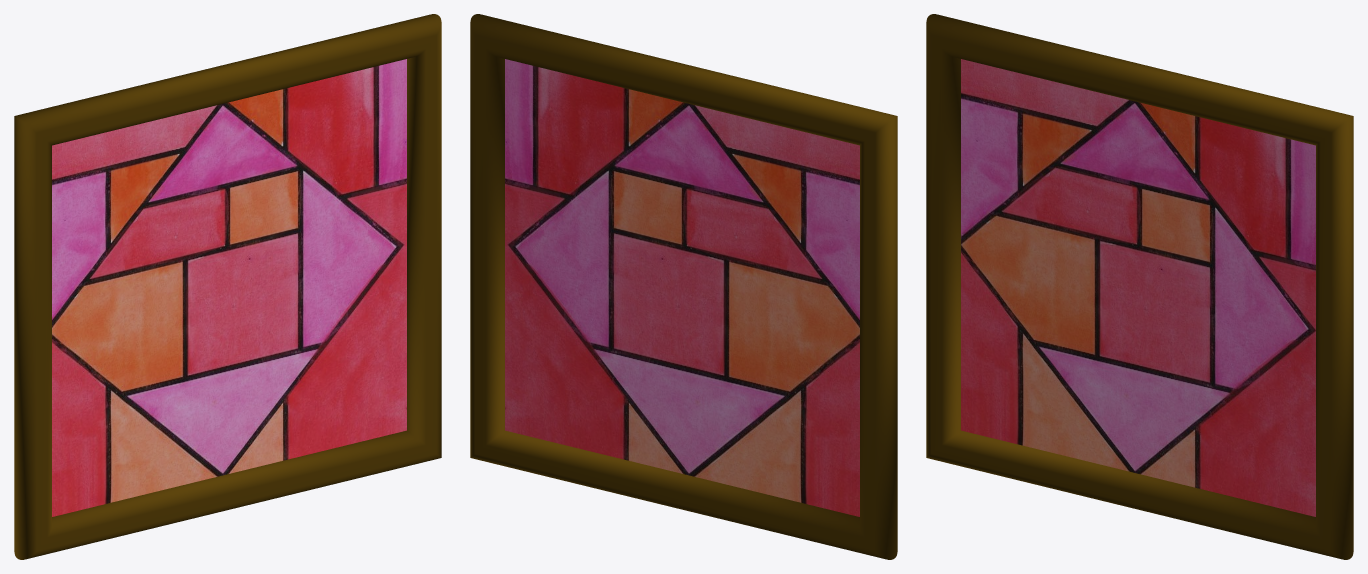
File: redImage.fbx
3 views of the same model, side by side, from view 1: azimuth 30°, elevation 25°; view 2: azimuth 150°, elevation 25°; view 3: azimuth 330°, elevation 25° (orthographic).
Visible parts, largest first — view 1: Bild, Ramen; view 2: Bild, Ramen; view 3: Bild, Ramen.
Part boxes in pixels (box(x1,y1,x2,y2)): Bild: box(52, 59, 406, 516); Ramen: box(14, 14, 441, 559); Bild: box(505, 59, 859, 516); Ramen: box(470, 14, 897, 559); Bild: box(961, 59, 1315, 516); Ramen: box(926, 14, 1353, 559).
Size of the model in its own units: 424 by 424 by 30.
